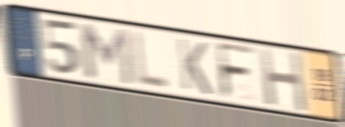5: (40, 19, 82, 76)
F: (214, 39, 259, 103)
H: (257, 45, 310, 115)
K: (175, 35, 214, 98)
L: (131, 28, 172, 93)
M: (76, 20, 136, 88)
